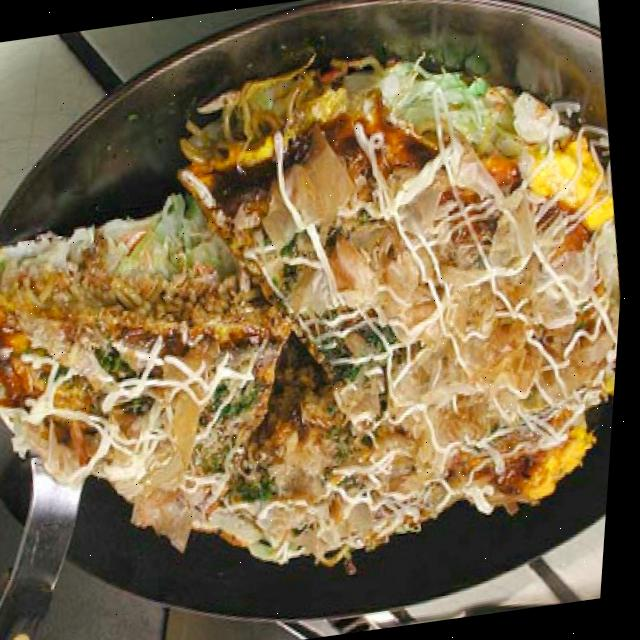蛋糕甜品: (0, 46, 638, 611)
